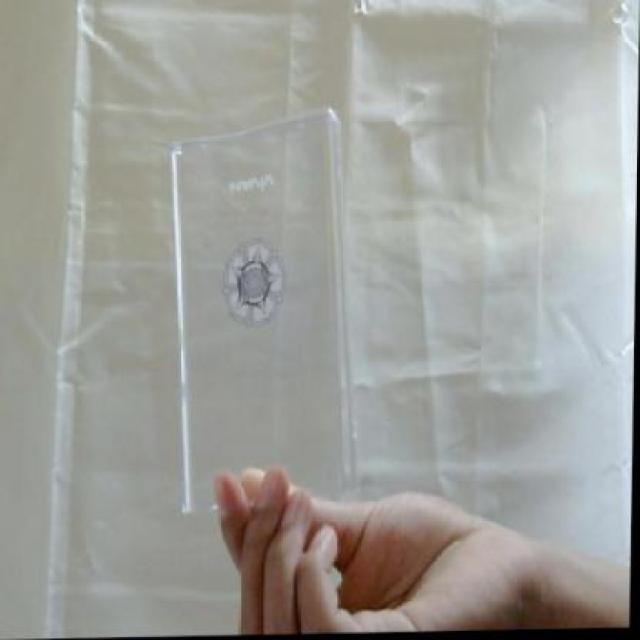Plastic: (156, 96, 376, 521)
